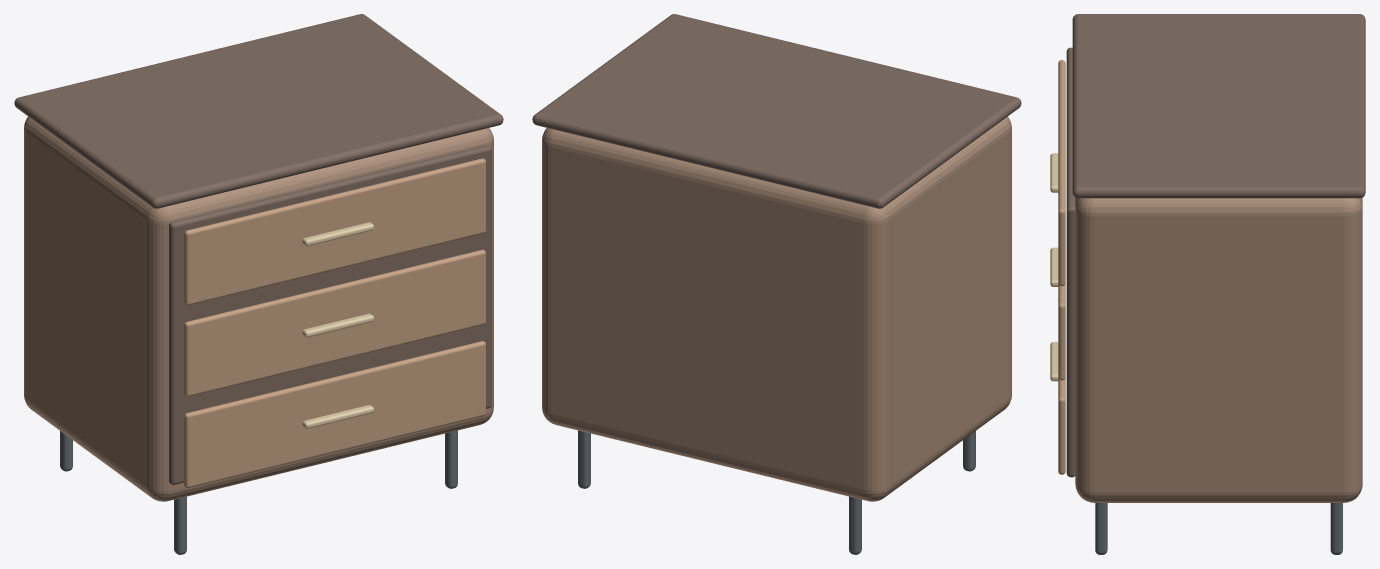
File: drawer-cabinet.glb
3 views of the same model, side by side, from view 1: azimuth 30°, elevation 25°; view 2: azimuth 150°, elevation 25°; view 3: azimuth 270°, elevation 25° (orthographic). The views are drawn at different scales.
Parts seen in each view (by area): view 1: wood_edge_1, wood_rich_2, walnut_0, brass_3, graphite_4; view 2: walnut_0, wood_edge_1, graphite_4; view 3: walnut_0, wood_edge_1, wood_rich_2, graphite_4, brass_3.
Boxes of the visible parts, x1,y1,x2,y2 form: wood_edge_1: (14, 14, 503, 484); wood_rich_2: (184, 158, 485, 488); walnut_0: (24, 116, 493, 501); brass_3: (302, 222, 373, 428); graphite_4: (60, 430, 457, 554); walnut_0: (542, 116, 1011, 501); wood_edge_1: (532, 14, 1021, 208); graphite_4: (578, 430, 975, 554); walnut_0: (1075, 197, 1362, 502); wood_edge_1: (1066, 14, 1365, 477); wood_rich_2: (1058, 60, 1065, 474); graphite_4: (1095, 503, 1342, 554); brass_3: (1050, 153, 1058, 381).
Size of the model in its own units: 1.53 by 1.55 by 1.15.
